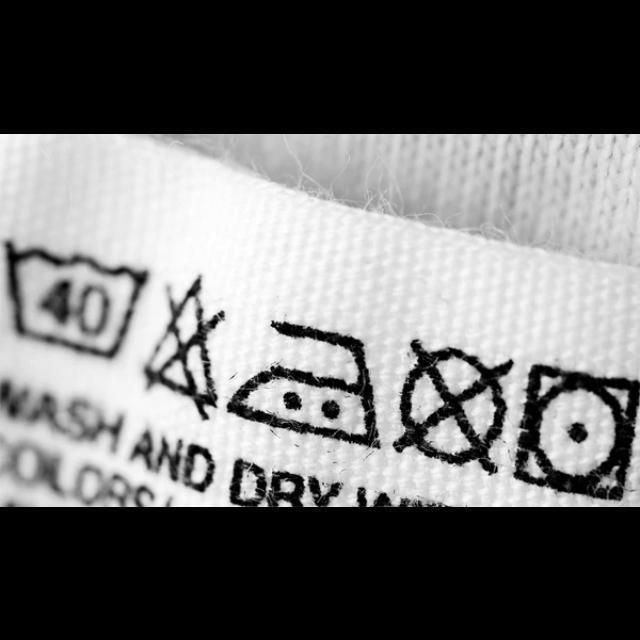40C: (0, 234, 154, 368)
DN_bleach: (135, 270, 233, 424)
DN_dry_clean: (388, 333, 514, 477)
iron_medium: (222, 309, 386, 453)
tumble_dry_low: (510, 354, 640, 506)
